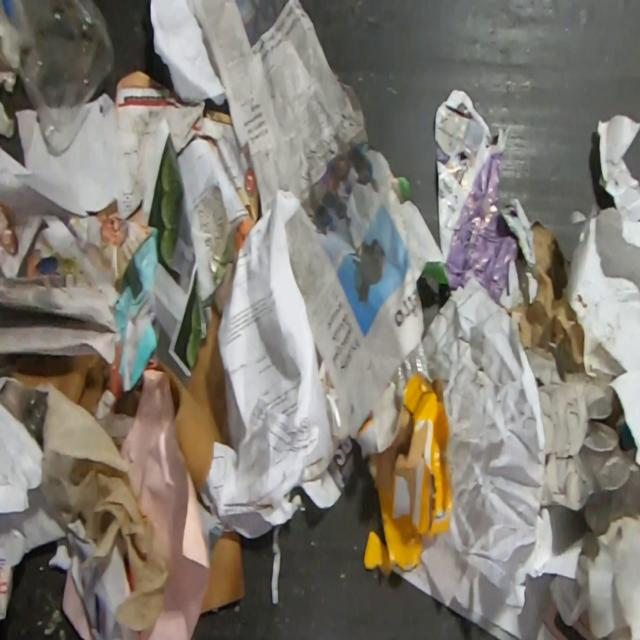cardboard: (524, 346, 640, 560), (362, 372, 454, 578), (153, 299, 234, 489), (506, 219, 585, 373), (4, 352, 111, 418), (199, 531, 246, 615), (112, 381, 142, 418)
rigid_plastic: (0, 0, 117, 158)
soft_plastic: (388, 336, 433, 398)
